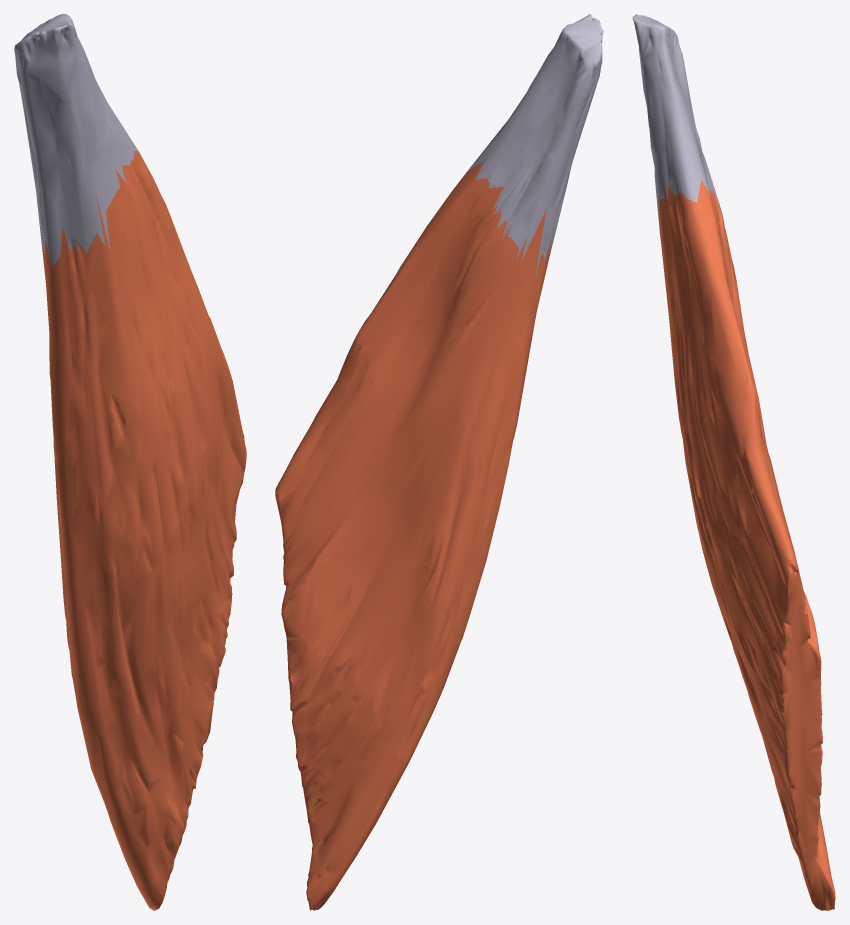
The model's file is Adductor_longus.l_Generated_Mesh_From_X3D.1012.glb.
The picture shows the model from 3 angles, left to right: view 1: azimuth 30°, elevation 25°; view 2: azimuth 150°, elevation 25°; view 3: azimuth 270°, elevation 25°; orthographic projection. The views are drawn at different scales.
Visible parts, largest first — view 1: Adductor_longus.l_Generated_Mesh_From_X3D.1012; view 2: Adductor_longus.l_Generated_Mesh_From_X3D.1012; view 3: Adductor_longus.l_Generated_Mesh_From_X3D.1012.
Part boxes in pixels (x1,y1,x2,y2): Adductor_longus.l_Generated_Mesh_From_X3D.1012: (14,14,246,910); Adductor_longus.l_Generated_Mesh_From_X3D.1012: (275,14,603,910); Adductor_longus.l_Generated_Mesh_From_X3D.1012: (632,14,835,910).
Size of the model in its own units: 0.0831 by 0.2649 by 0.0598.
